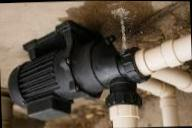leak: (95, 1, 134, 52)
